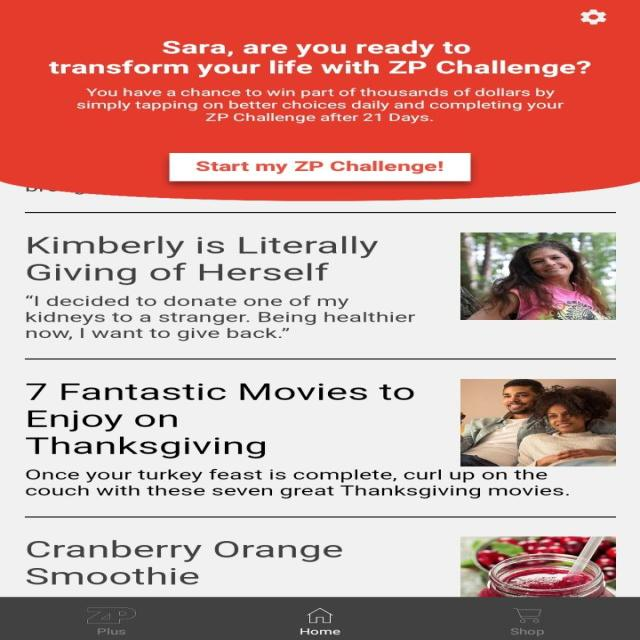Icon: (512, 607, 542, 622), (306, 608, 334, 623), (580, 9, 606, 25)
Image: (460, 232, 616, 320), (460, 379, 616, 466), (460, 536, 616, 597), (86, 606, 136, 623)
Text: (24, 383, 414, 458), (48, 41, 590, 78), (25, 295, 415, 341), (76, 88, 562, 124), (26, 236, 378, 285), (26, 468, 569, 498), (26, 540, 342, 584), (300, 627, 340, 635), (510, 628, 543, 636), (96, 627, 125, 635)
TextButton: (168, 152, 470, 182)
